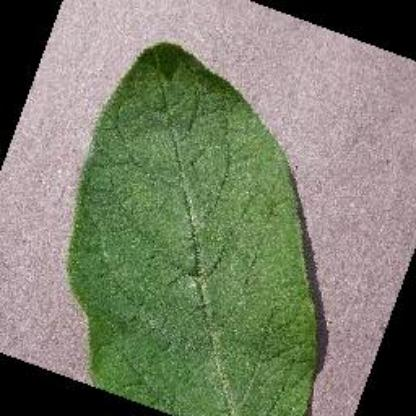Healthy-plant: (53, 35, 328, 415)
